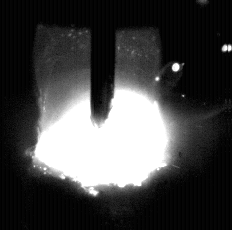arame: (91, 0, 115, 126)
poca: (34, 0, 169, 230)
